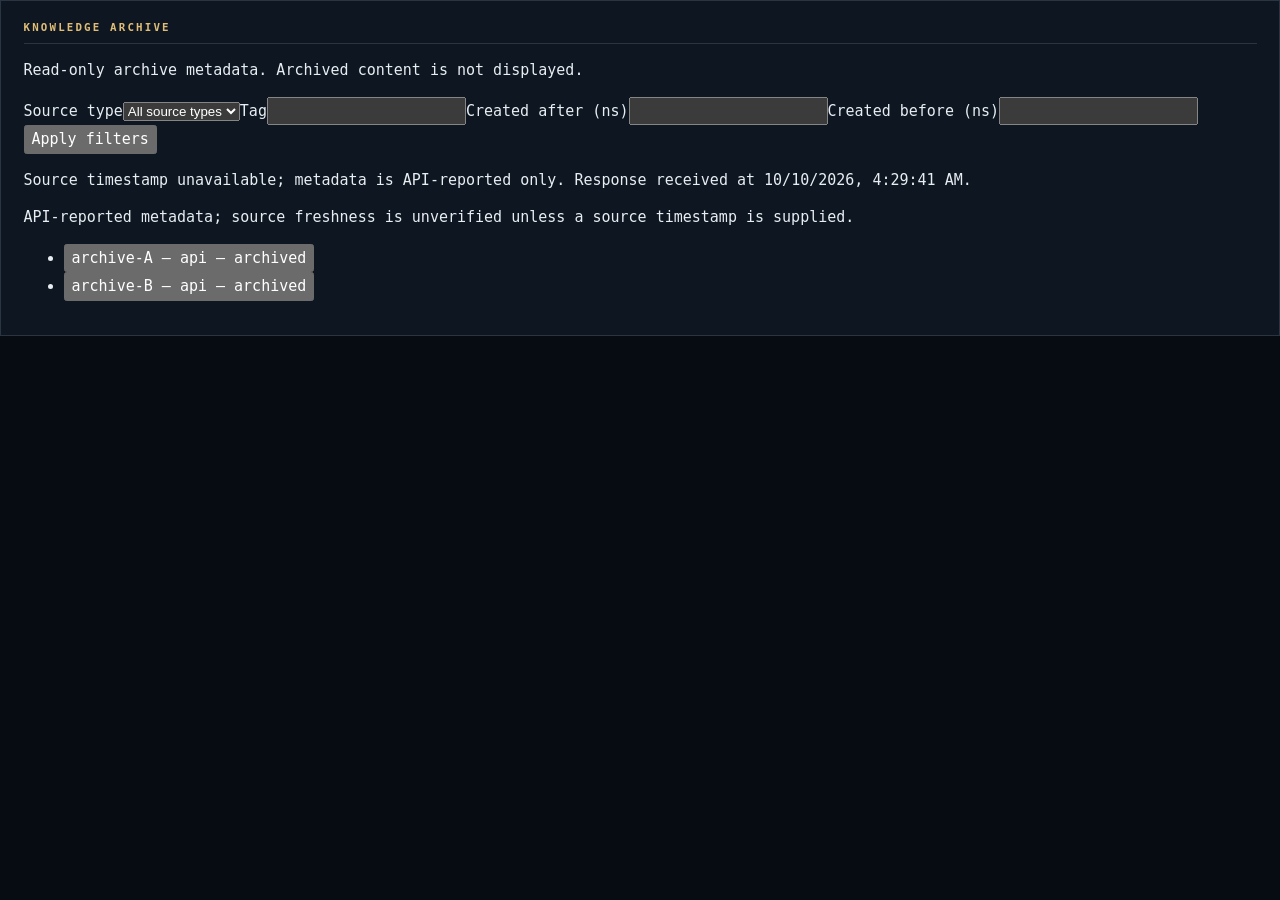
Test: KNOW-ARCHIVE-UI-001 independent acceptance › ignores stale detail success and runs error after selecting A then B
Click the button with aria-label "View ingestion archive-A" at coordinates (189, 258), box left=64, top=244, right=314, bottom=272
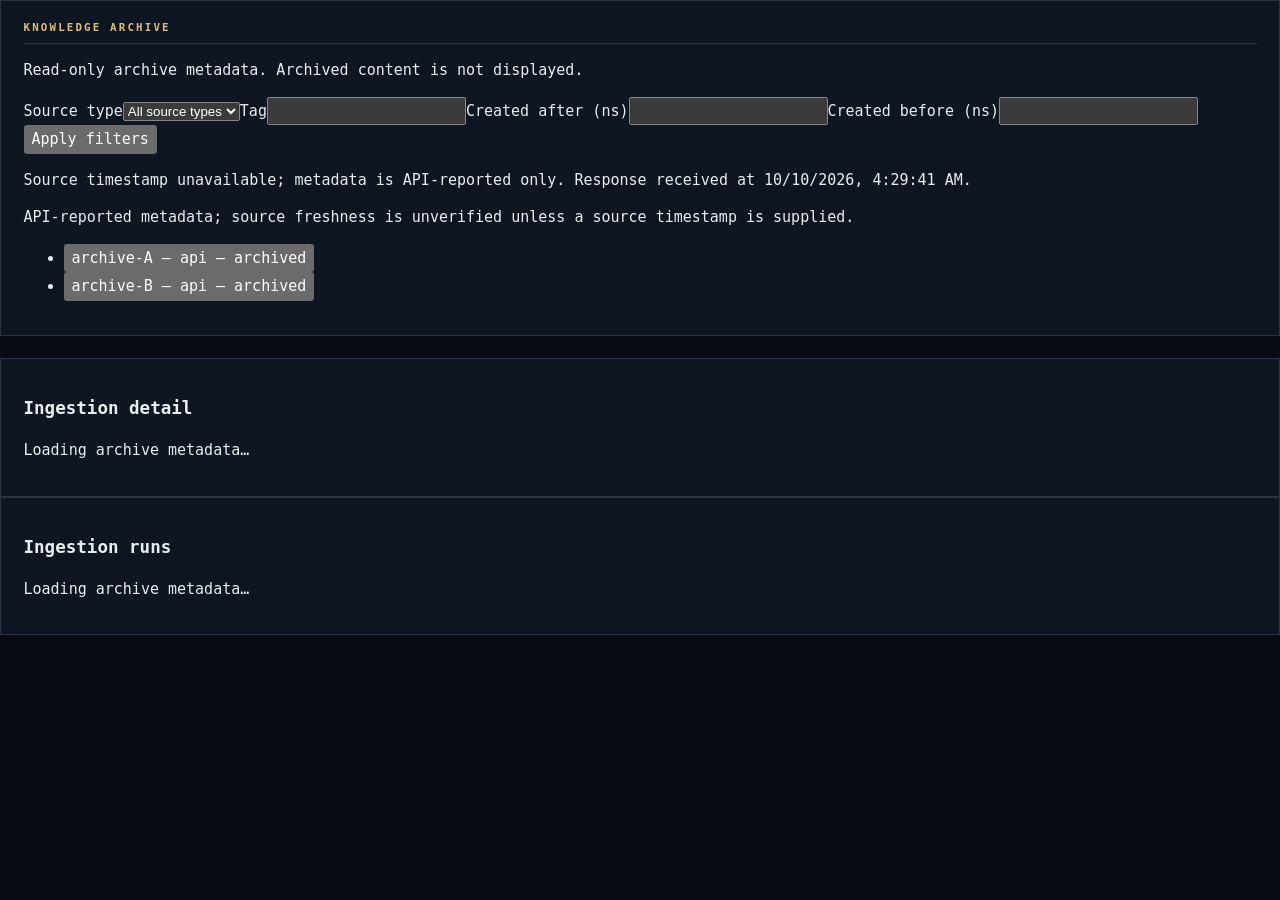
Click the button with aria-label "View ingestion archive-B" at coordinates (189, 287), box left=64, top=272, right=314, bottom=301
(page scrolled)
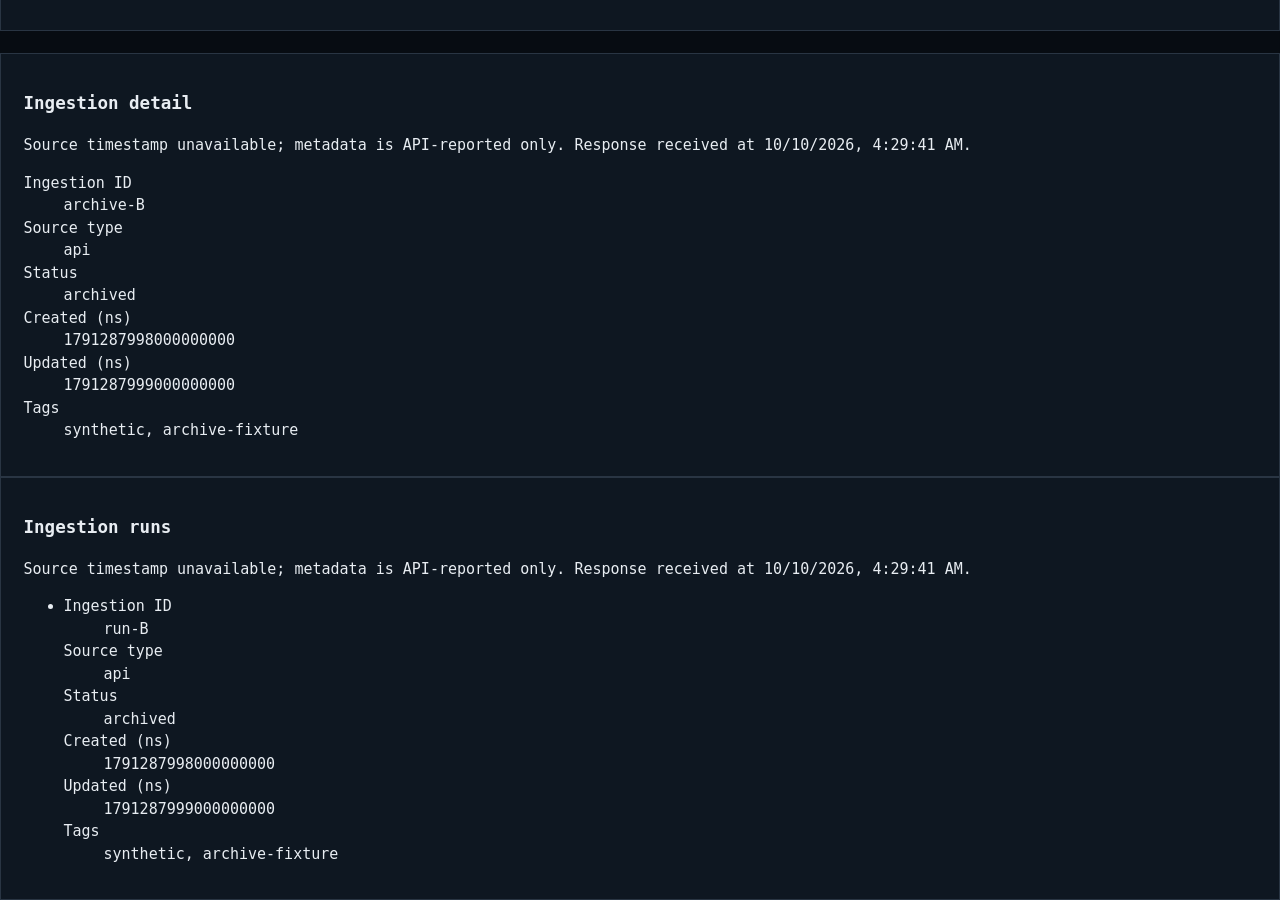
Expected: the text "archive-A" is not shown
Expected: the text "archive-B" is shown, left=64, top=196, right=145, bottom=214
Expected: the text "run-B" is shown, left=104, top=620, right=149, bottom=638
